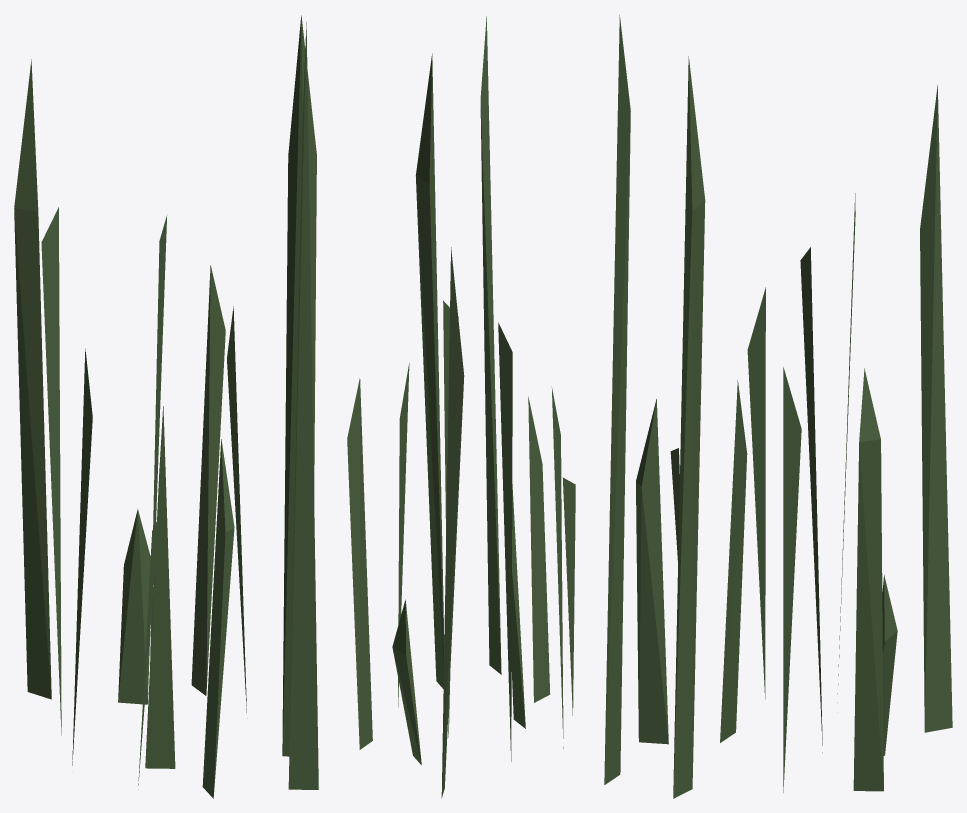
Rendered from Grass_2.lod2.glb.
The picture shows the model from 3 angles, left to right: view 1: azimuth 30°, elevation 25°; view 2: azimuth 150°, elevation 25°; view 3: azimuth 270°, elevation 25°; orthographic projection. The views are drawn at different scales.
Parts seen in each view (by area): view 1: Grass_2; view 2: Grass_2; view 3: Grass_2.
Part boxes in pixels (x1,y1,x2,y2): Grass_2: [14, 15, 318, 798]; Grass_2: [347, 16, 575, 798]; Grass_2: [604, 15, 952, 798].
Size of the model in its own units: 0.3015 by 1.06 by 0.4343.
